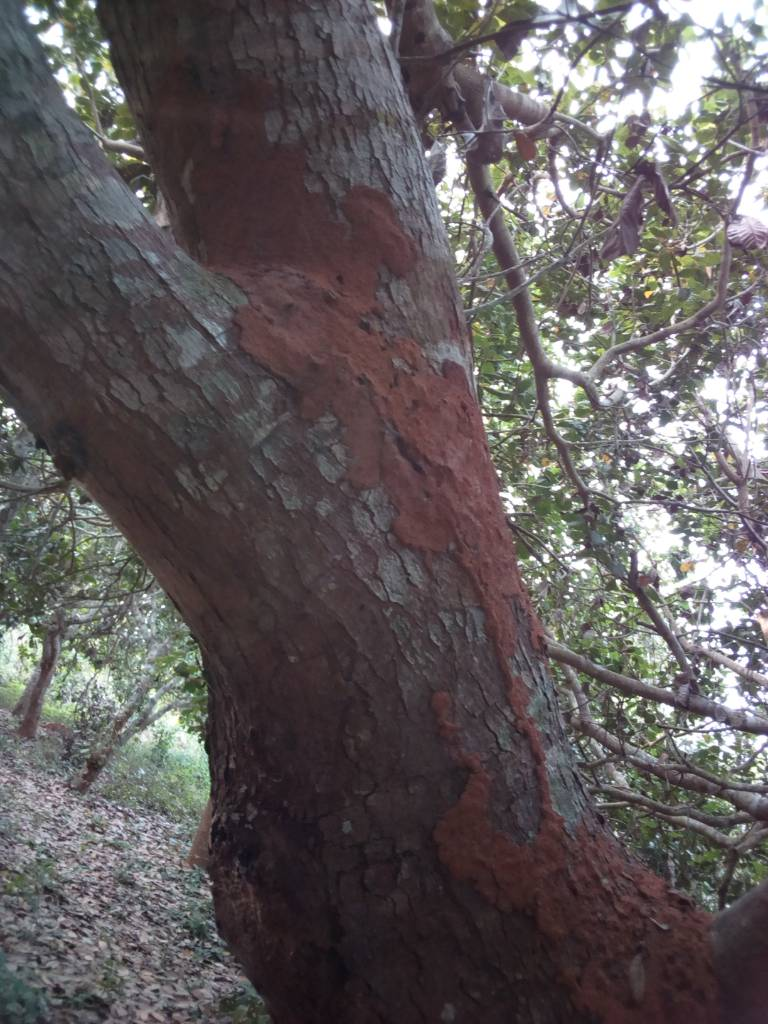Termites: (236, 169, 527, 671), (432, 694, 719, 1024)
